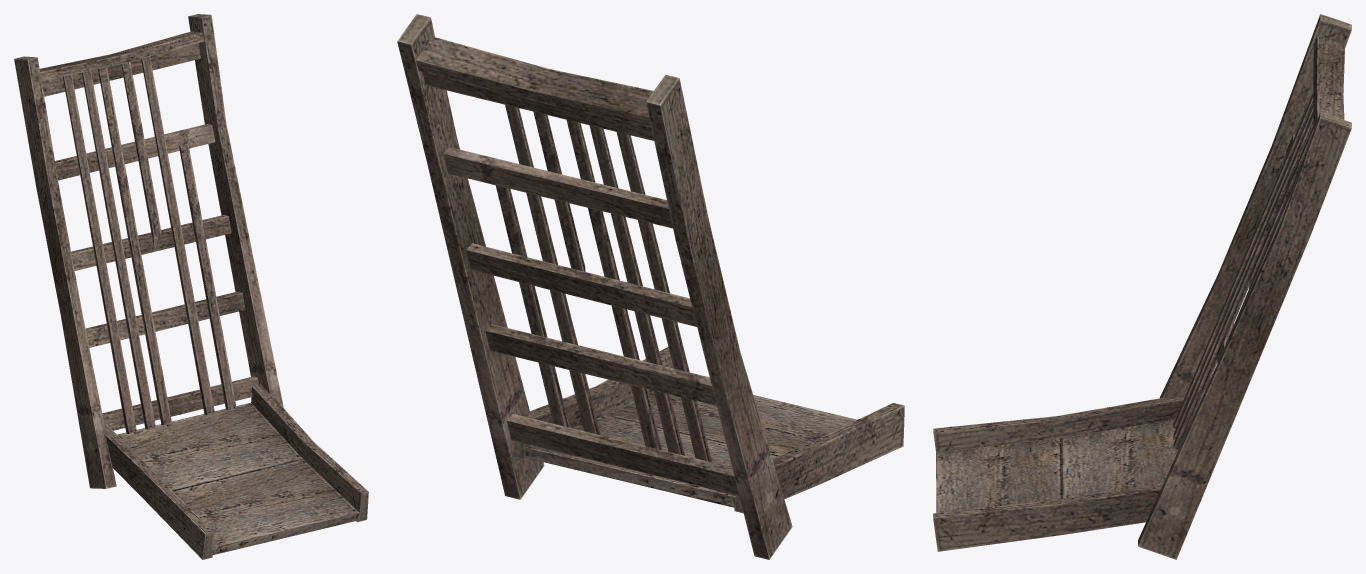
The model's file is WoodJiaZi_1.fbx.
3 renders of one model, left to right at view 1: azimuth 30°, elevation 25°; view 2: azimuth 150°, elevation 25°; view 3: azimuth 270°, elevation 25°, orthographic. The views are drawn at different scales.
Visible parts, largest first — view 1: 3D_WoodJiaZi.mo; view 2: 3D_WoodJiaZi.mo; view 3: 3D_WoodJiaZi.mo.
Part boxes in pixels (bbox=[...]): 3D_WoodJiaZi.mo: bbox=[14, 14, 368, 559]; 3D_WoodJiaZi.mo: bbox=[397, 14, 904, 559]; 3D_WoodJiaZi.mo: bbox=[933, 14, 1351, 559].
Size of the model in its own units: 23.66 by 46.89 by 40.27.
1 material, 1 textured.
